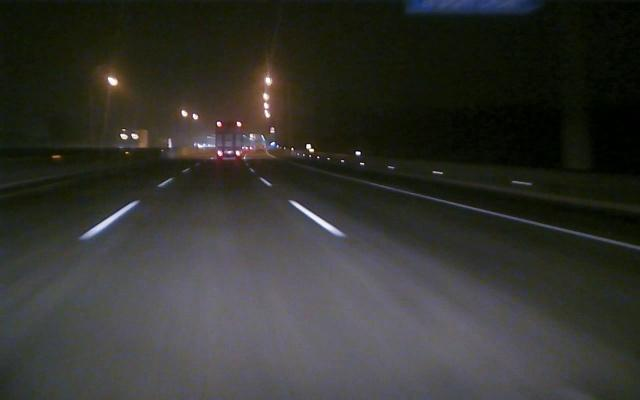lane: (356, 178, 638, 251), (79, 179, 171, 239), (260, 178, 346, 238)
